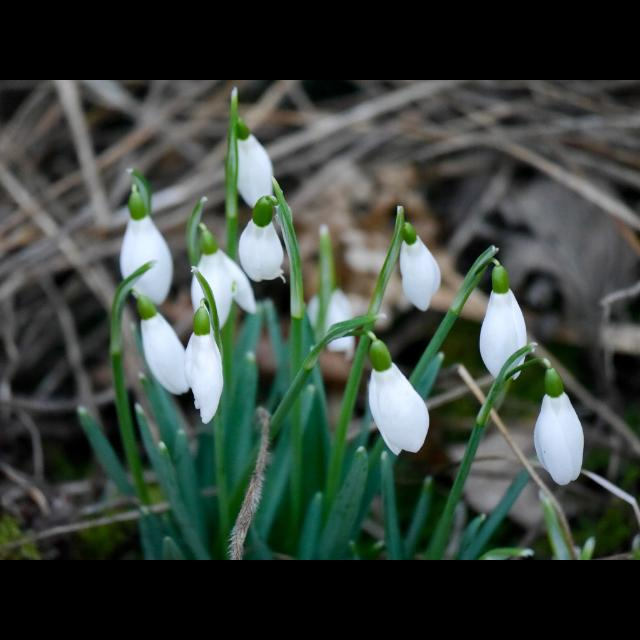Flower: (366, 358, 440, 458), (189, 244, 257, 330), (533, 381, 583, 481), (120, 212, 172, 302), (474, 286, 526, 376), (142, 312, 188, 396), (184, 331, 222, 422), (401, 232, 441, 314), (240, 213, 284, 281), (236, 129, 272, 207), (326, 294, 354, 356)
